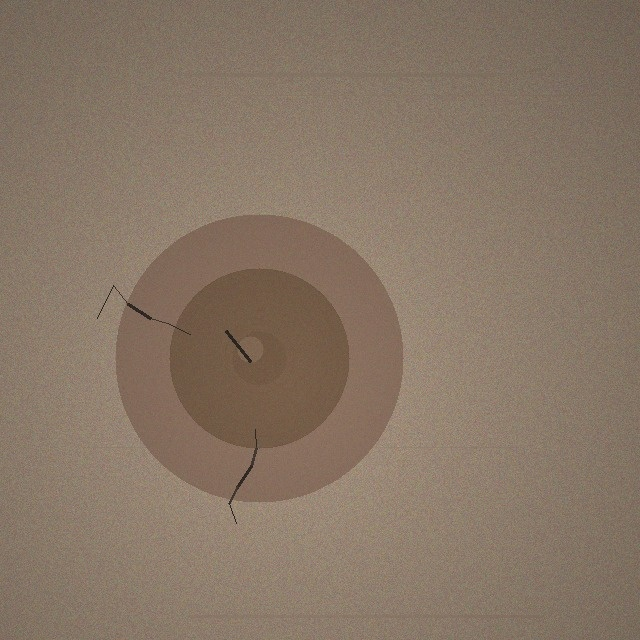crack: (115, 214, 403, 502)
